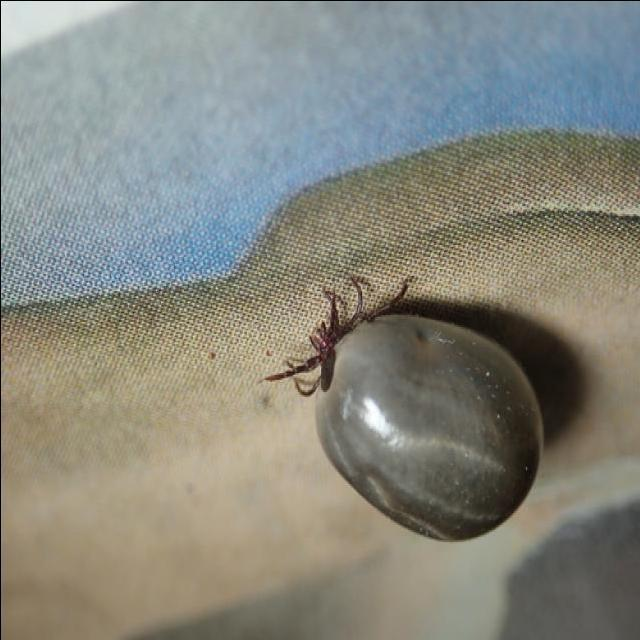Ixodes Ricinus-F-Fed: (265, 276, 541, 541)
